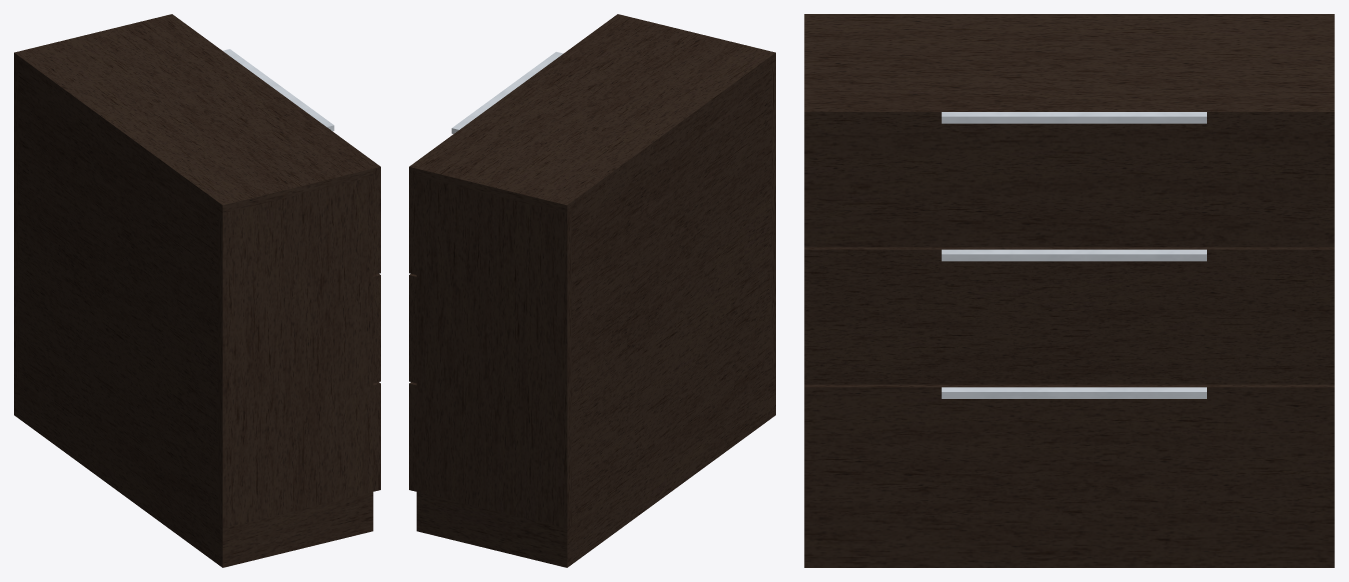
File: cassettiera.fbx
3 views of the same model, side by side, from view 1: azimuth 30°, elevation 25°; view 2: azimuth 150°, elevation 25°; view 3: azimuth 270°, elevation 25° (orthographic). The views are drawn at different scales.
Parts seen in each view (by area): view 1: contenitore.001, cassetto_alto, cassetto_basso, cassetto_centr; view 2: contenitore.001, cassetto_alto, cassetto_basso, cassetto_centr; view 3: cassetto_alto, contenitore.001, cassetto_basso, cassetto_centr.
Boxes of the visible parts, x1,y1,x2,y2 form: contenitore.001: [14, 16, 373, 567]; cassetto_alto: [165, 14, 380, 274]; cassetto_basso: [373, 382, 380, 491]; cassetto_centr: [373, 273, 380, 383]; contenitore.001: [416, 16, 775, 567]; cassetto_alto: [409, 14, 624, 274]; cassetto_basso: [409, 382, 416, 491]; cassetto_centr: [409, 273, 416, 383]; cassetto_alto: [804, 107, 1334, 247]; contenitore.001: [804, 14, 1334, 567]; cassetto_basso: [804, 384, 1334, 522]; cassetto_centr: [804, 247, 1334, 384].
Bounding box in the file's own units: 44 × 92 × 96.
